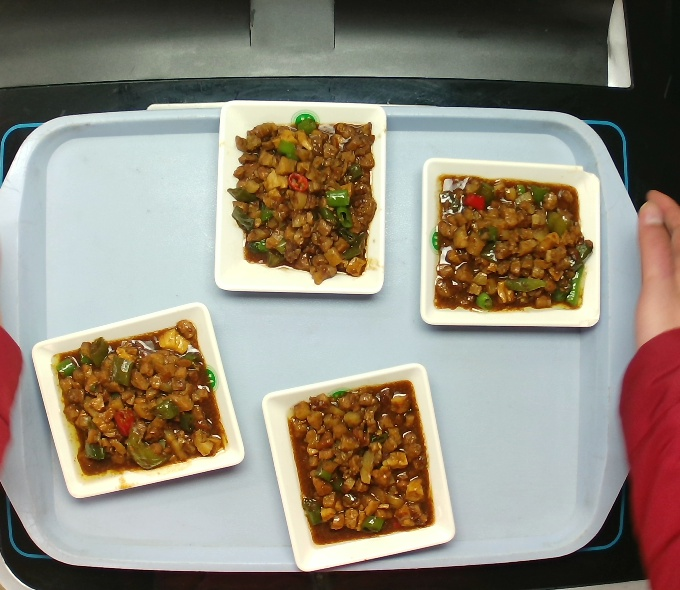wcq-XiaoJiangRou: (55, 319, 229, 477), (226, 113, 378, 286), (287, 379, 435, 546), (431, 174, 594, 313)
